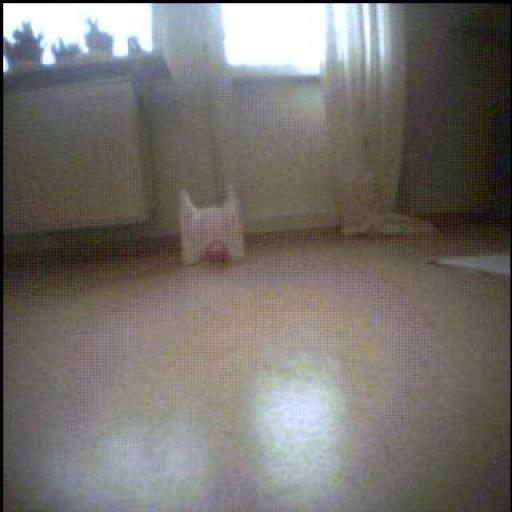Basket: (204, 241, 233, 269)
